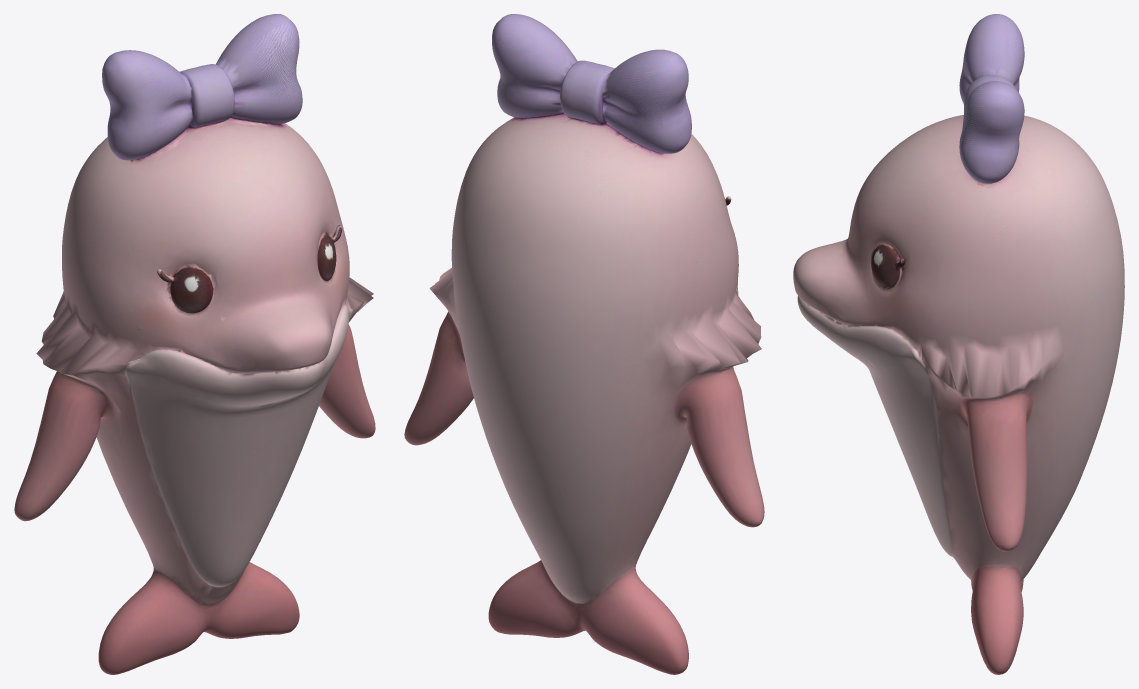
File: rosinha.glb
3 views of the same model, side by side, from view 1: azimuth 30°, elevation 25°; view 2: azimuth 150°, elevation 25°; view 3: azimuth 270°, elevation 25° (orthographic). The views are drawn at different scales.
Visible parts, largest first — view 1: rosinha; view 2: rosinha; view 3: rosinha.
Boxes of the visible parts, box(x1,y1,x2,y2) form: rosinha: box(14, 14, 375, 674); rosinha: box(404, 14, 764, 674); rosinha: box(793, 14, 1124, 674).
Bounding box in the file's own units: 0.604 × 1 × 0.5157.
Materials: 1 (1 with a texture image).
